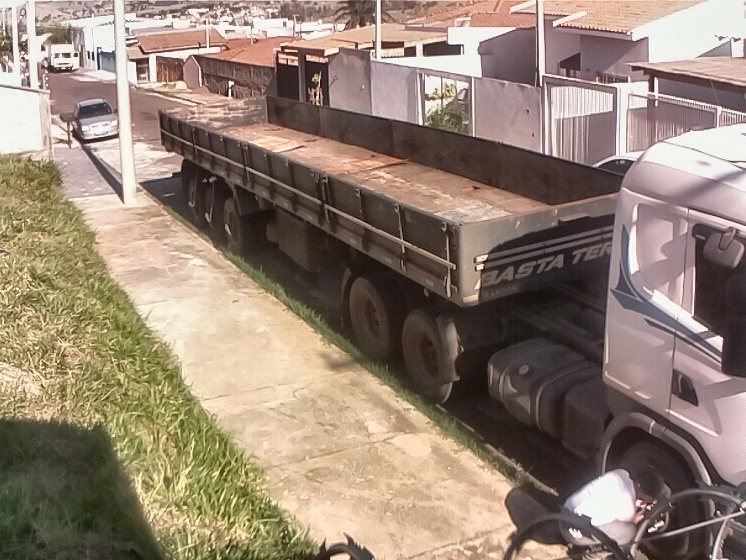person: (557, 465, 665, 560)
